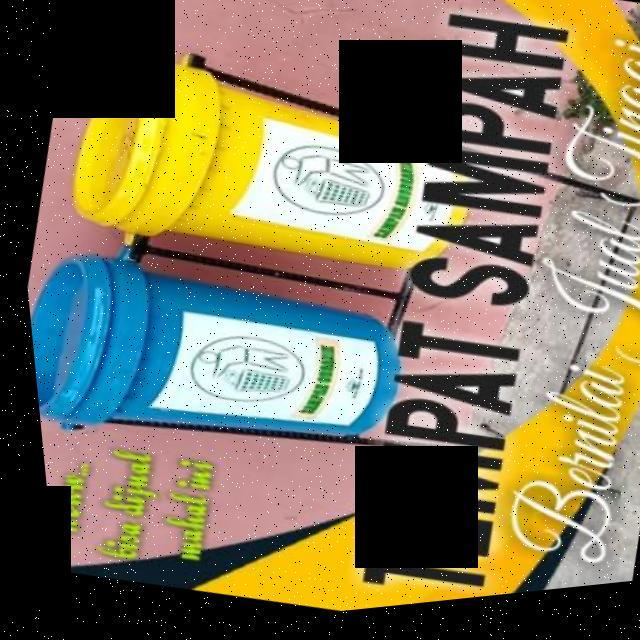bin: (38, 11, 495, 332), (18, 211, 422, 514)
